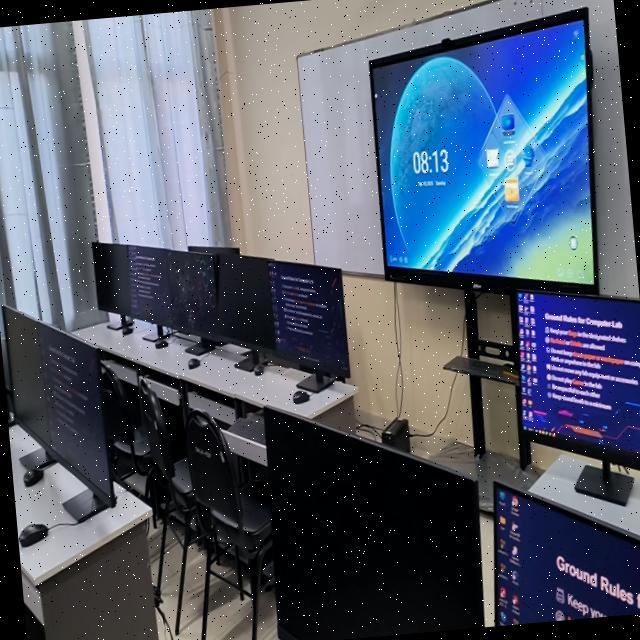Chair: (186, 410, 274, 640), (138, 376, 197, 634), (100, 362, 152, 503)
Digital board: (369, 8, 598, 510)
Keyboard: (226, 413, 265, 445)
Monitor: (264, 407, 484, 640), (516, 292, 640, 505), (494, 484, 640, 626), (36, 324, 116, 521), (268, 261, 349, 392), (2, 305, 53, 470), (218, 253, 275, 370), (167, 249, 227, 354), (127, 246, 171, 325), (92, 242, 131, 329), (188, 246, 239, 254)
Mouse: (19, 523, 48, 546), (23, 468, 43, 485), (292, 390, 309, 404), (187, 357, 200, 369), (253, 363, 265, 375), (155, 337, 168, 348), (121, 323, 133, 334)
